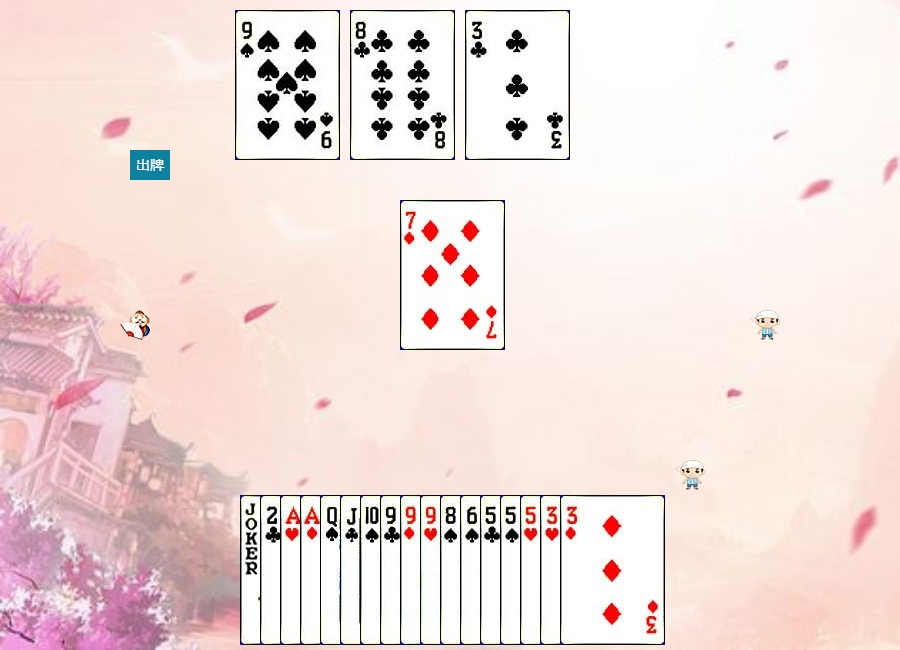10~4: (360, 495, 465, 645)
11~2: (340, 495, 445, 645)
12~4: (320, 495, 425, 645)
14~1: (300, 495, 405, 645)
14~3: (280, 495, 385, 645)
15~2: (260, 495, 365, 645)
17~3: (240, 495, 345, 645)
3~1: (560, 495, 665, 645)
3~2: (465, 10, 570, 160)
3~3: (540, 495, 645, 645)
5~2: (480, 495, 585, 645)
5~3: (520, 495, 625, 645)
5~4: (500, 495, 605, 645)
6~4: (460, 495, 565, 645)
7~1: (400, 200, 505, 350)
8~2: (350, 10, 455, 160)
8~4: (440, 495, 545, 645)
9~1: (400, 495, 505, 645)
9~2: (380, 495, 485, 645)
9~3: (420, 495, 525, 645)
9~4: (235, 10, 340, 160)
